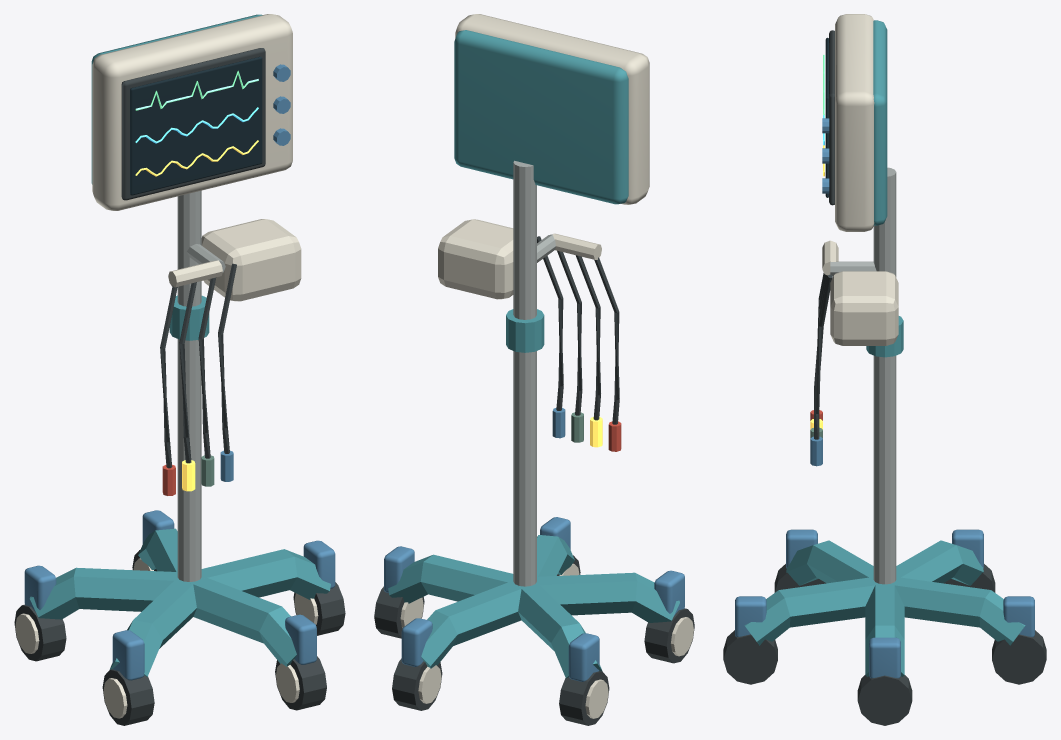
Rendered from patient_monitor_standard.glb.
3 renders of one model, left to right at view 1: azimuth 30°, elevation 25°; view 2: azimuth 150°, elevation 25°; view 3: azimuth 270°, elevation 25°, orthographic. The views are drawn at different scales.
Parts seen in each view (by area): view 1: STATIC_patient_monitor_standard, MOVING_PIVOT_monitor_tilt.001; view 2: STATIC_patient_monitor_standard, MOVING_PIVOT_monitor_tilt.001; view 3: STATIC_patient_monitor_standard, MOVING_PIVOT_monitor_tilt.001.
Part boxes in pixels (x1=…): STATIC_patient_monitor_standard: x1=14, y1=190, x2=345, y2=725; MOVING_PIVOT_monitor_tilt.001: x1=91, y1=14, x2=292, y2=210; STATIC_patient_monitor_standard: x1=374, y1=160, x2=694, y2=725; MOVING_PIVOT_monitor_tilt.001: x1=454, y1=14, x2=649, y2=204; STATIC_patient_monitor_standard: x1=723, y1=167, x2=1046, y2=725; MOVING_PIVOT_monitor_tilt.001: x1=822, y1=14, x2=887, y2=231.
Size of the model in its own units: 0.6238 by 1.46 by 0.7097.
